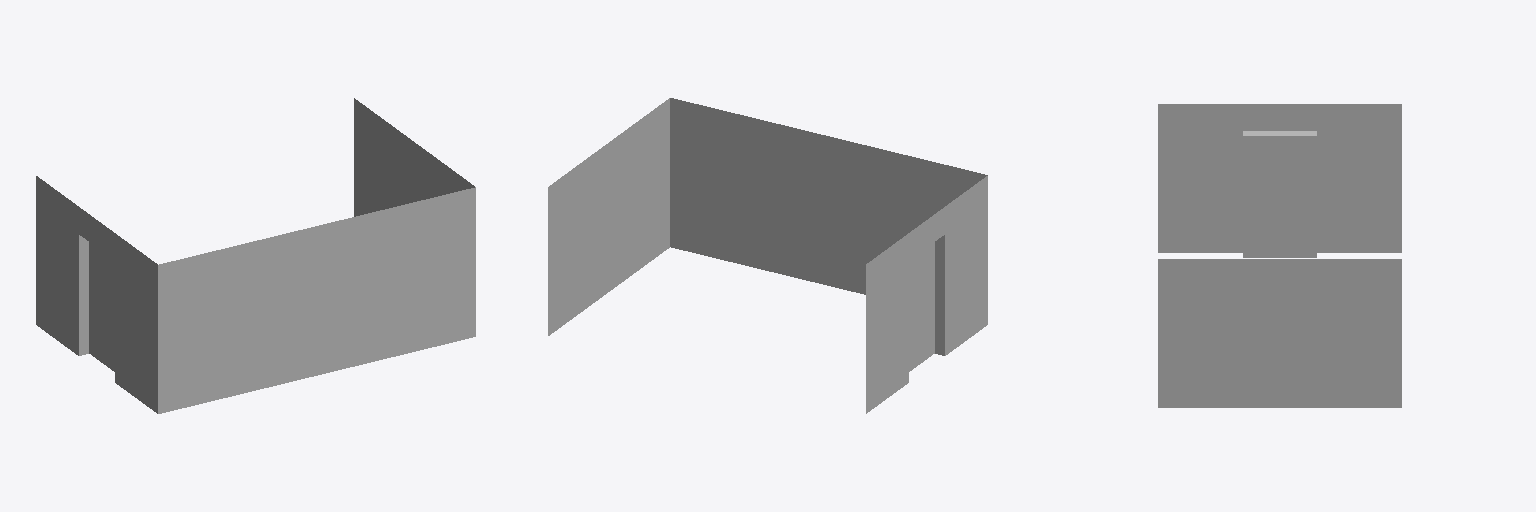
Rendered from industry_build_7.obj.
The picture shows the model from 3 angles: view 1: azimuth 30°, elevation 25°; view 2: azimuth 150°, elevation 25°; view 3: azimuth 270°, elevation 25°; orthographic projection.
Visible parts, largest first — view 1: IndustryBuildA1_00; view 2: IndustryBuildA1_00; view 3: IndustryBuildA1_00.
Boxes of the visible parts, box(x1,y1,x2,y2) form: IndustryBuildA1_00: box(36, 98, 475, 413); IndustryBuildA1_00: box(548, 98, 987, 413); IndustryBuildA1_00: box(1158, 104, 1401, 407).
Bounding box in the file's own units: 6 × 2.7 × 4.